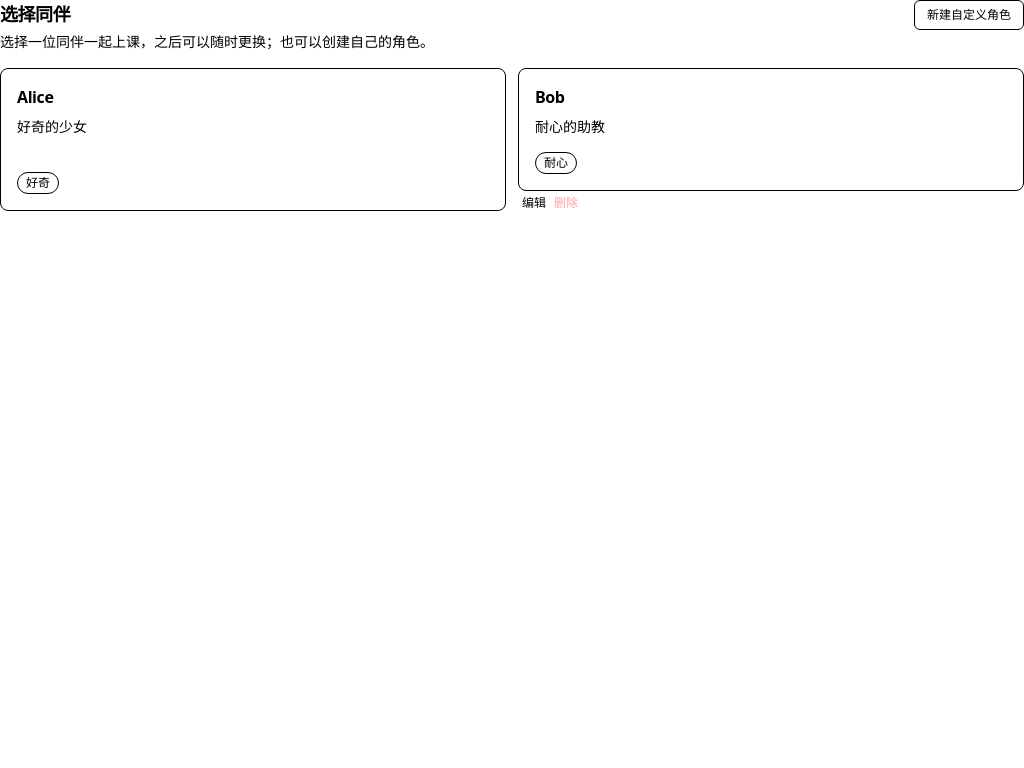
Scenario: CompanionSelector — custom companions › edits an existing custom companion
Click the button "编辑": (534, 203) [522,195,546,211]
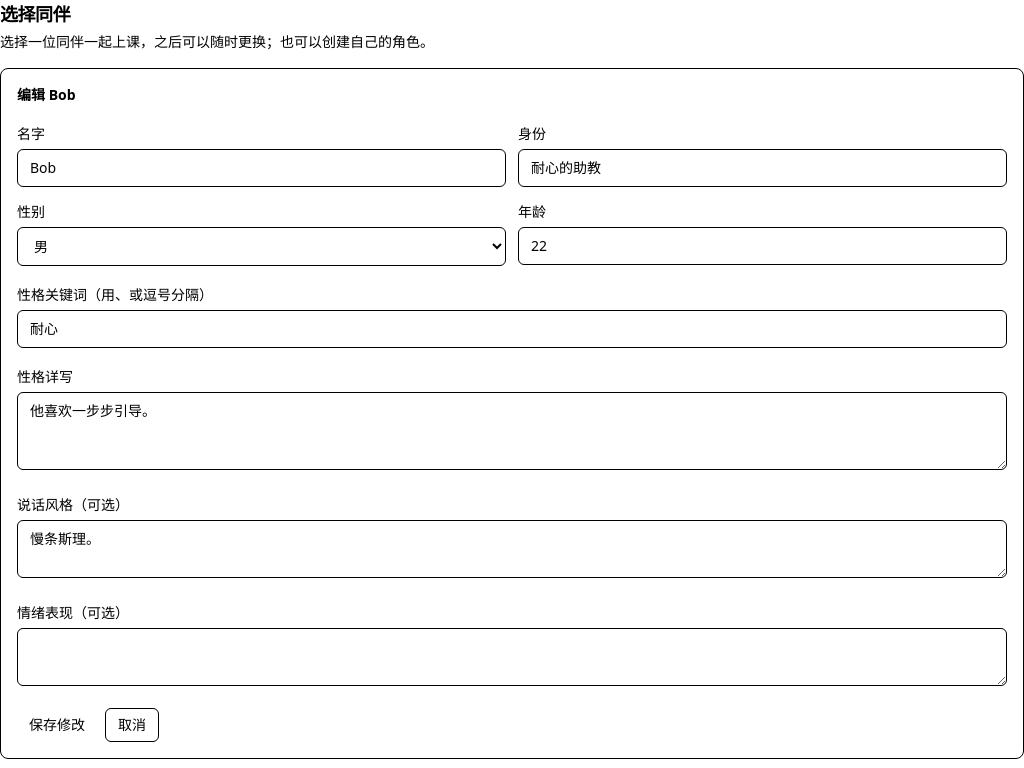
Check: the field labelled "名字" holds "Bob"
Replace the text in the field labelled "名字" with "Bobby": (262, 168) [17,149,506,187]
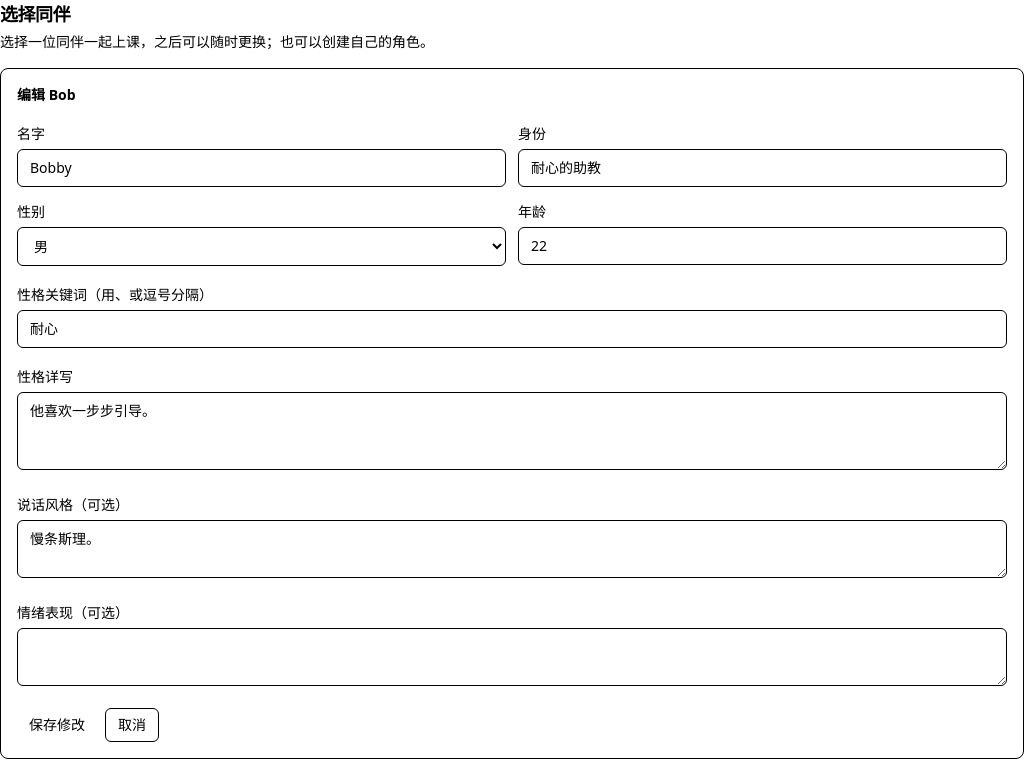
Click the button "保存修改": (57, 725) [17,708,97,742]
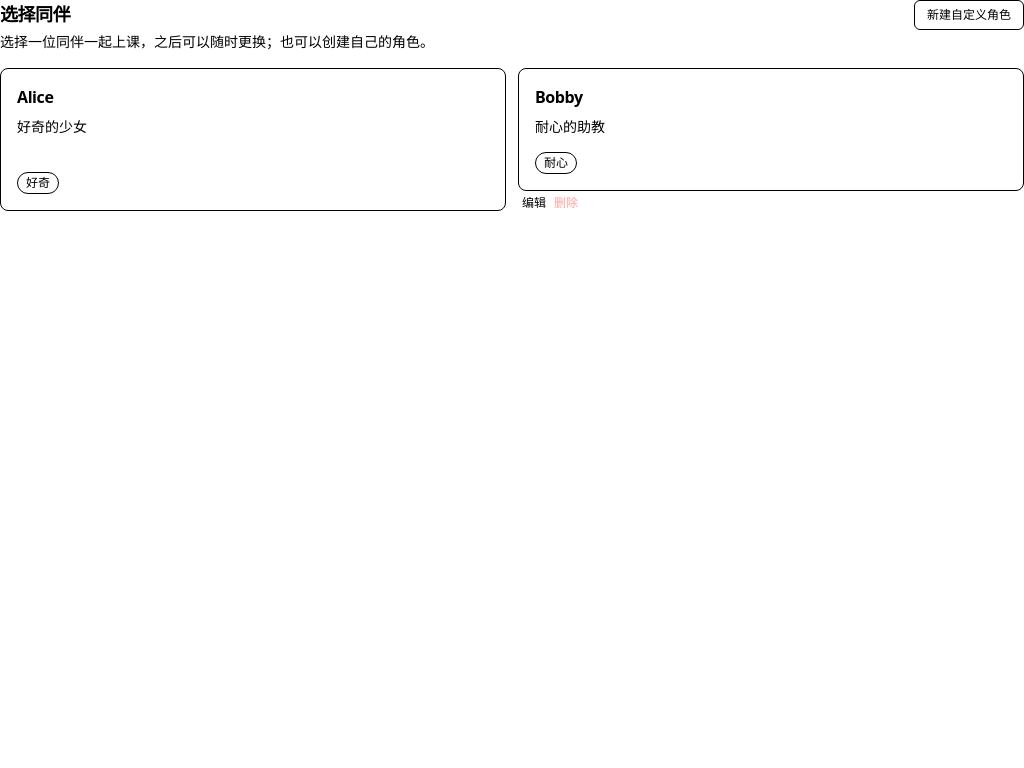
Check: the text "Bobby" is shown, box [535,85,583,109]
